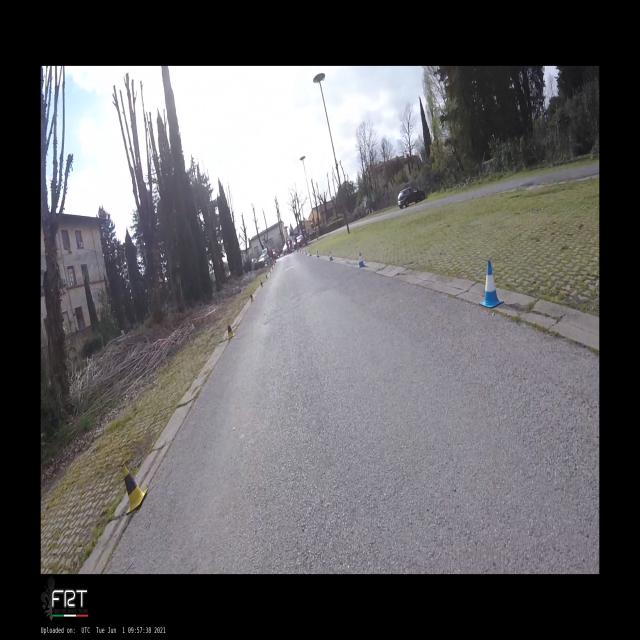blue_cone: (478, 260, 504, 308), (358, 252, 366, 268), (329, 251, 334, 261), (317, 250, 319, 258), (310, 250, 312, 256)
yellow_cone: (122, 463, 148, 514), (228, 322, 235, 339), (250, 294, 254, 303), (261, 280, 263, 287), (266, 274, 268, 279)
